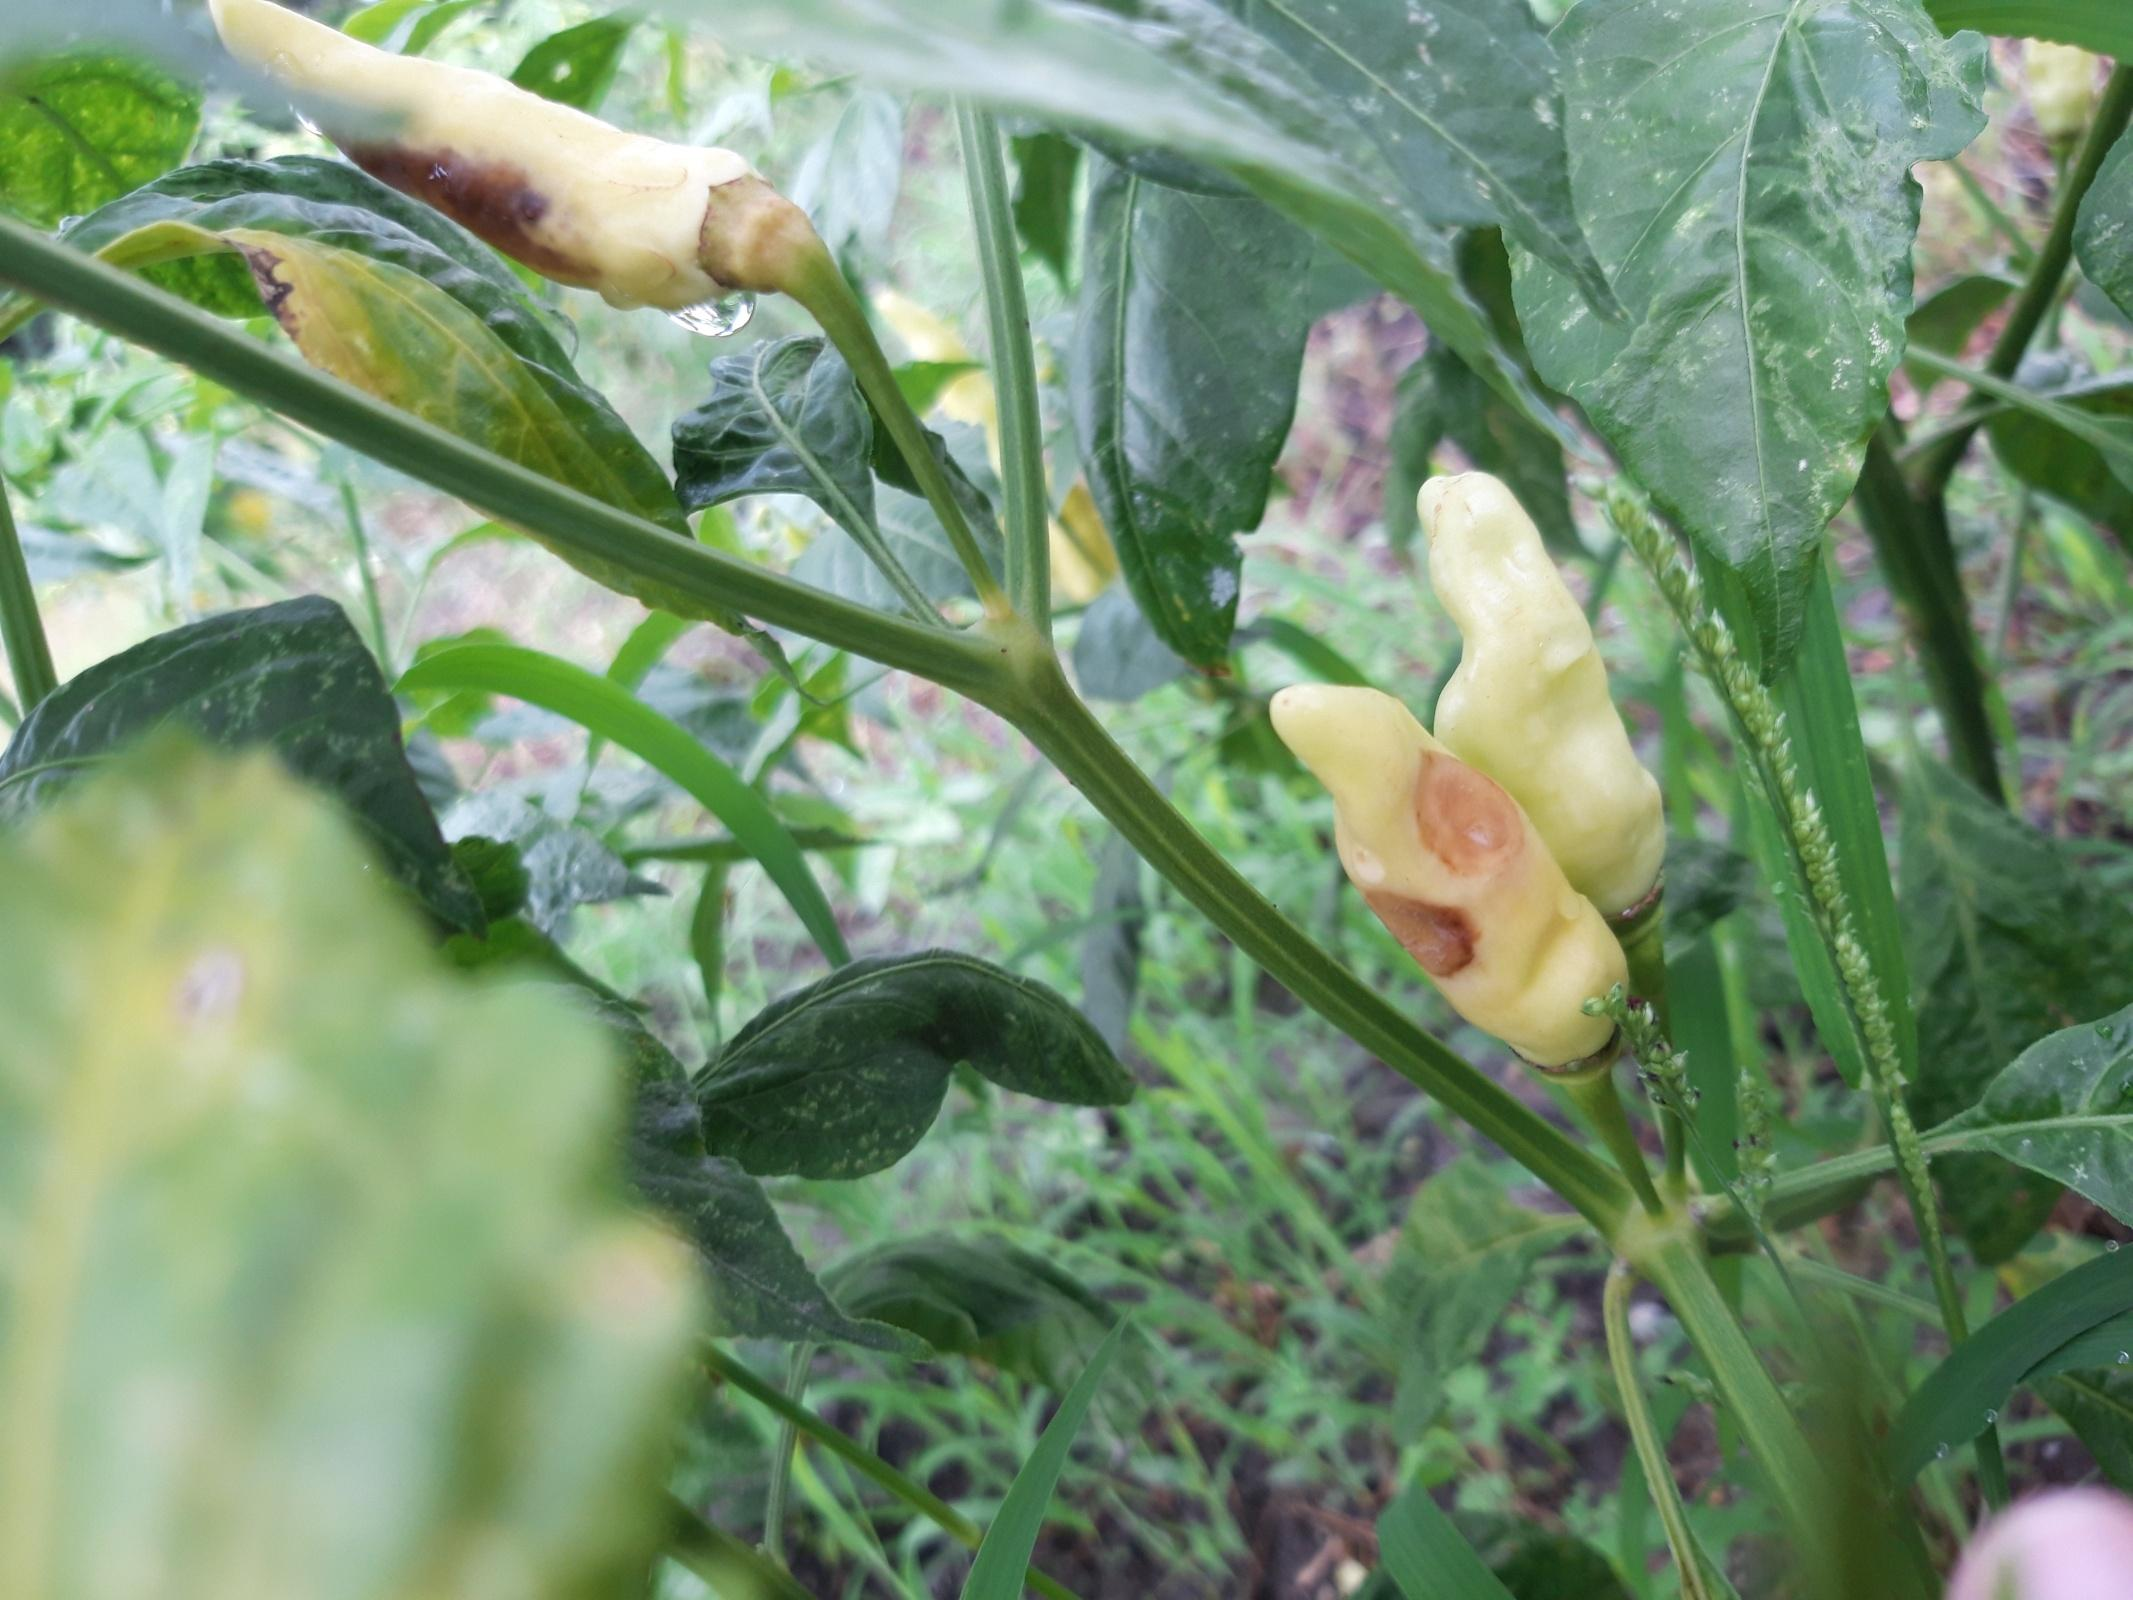antraknosa: (193, 0, 748, 314), (1266, 666, 1625, 1084)
